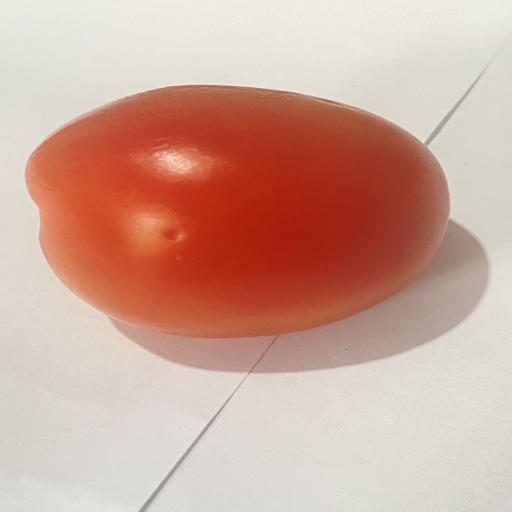overipe: (26, 85, 449, 338)
